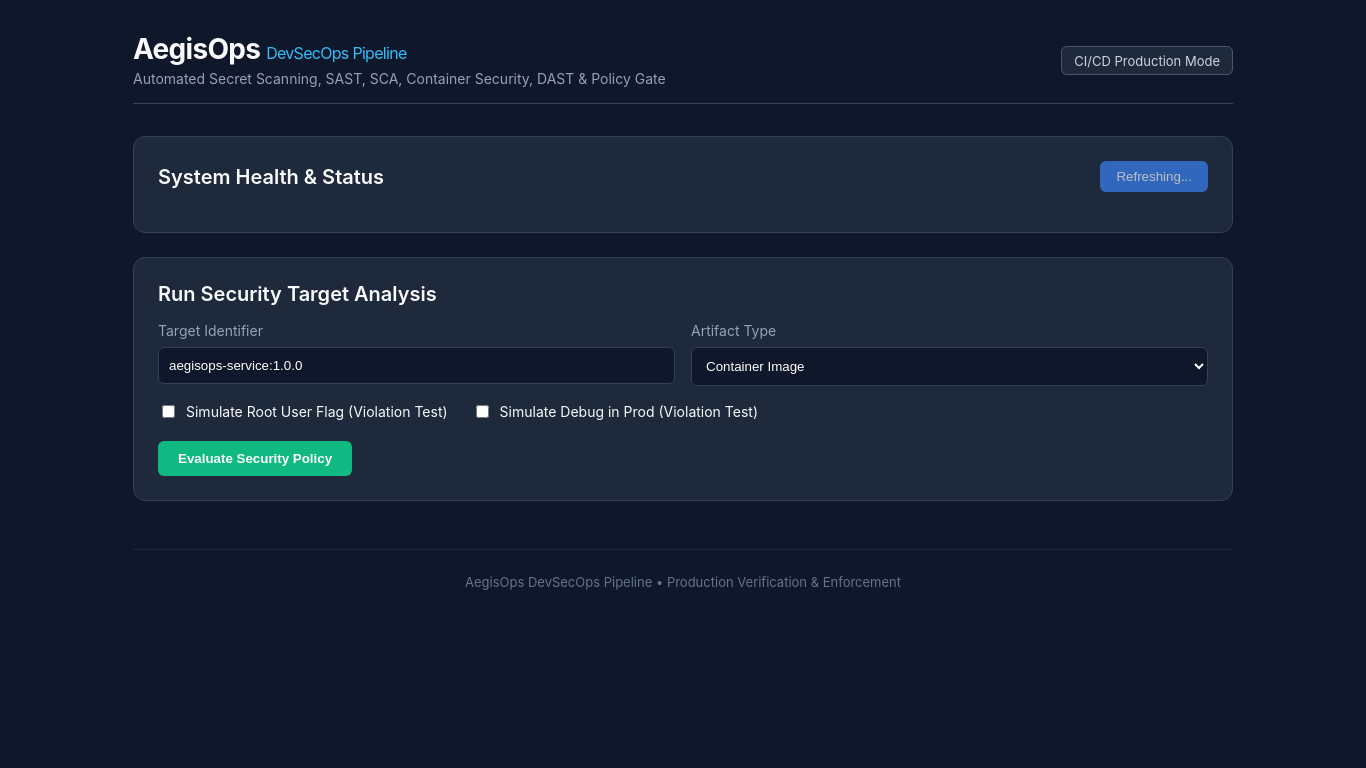
Test: AegisOps Frontend Application › handles client-side form validation for path traversal
Replace the text in the field with placeholder "e.g. app-container:1.0.0" with "../../malicious". click: (416, 366)
box: [158, 347, 675, 384]
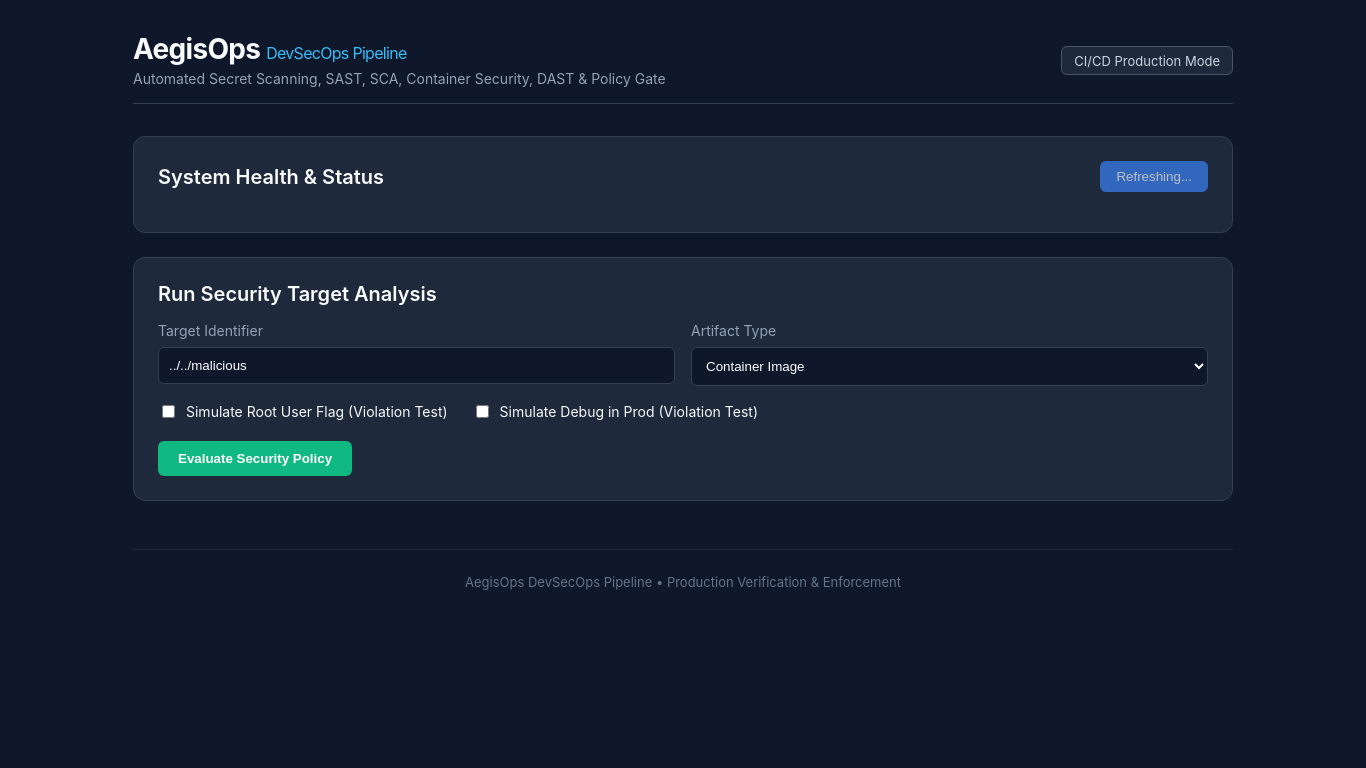
Click the button "Evaluate Security Policy". click: (255, 458)
box: [158, 441, 352, 476]
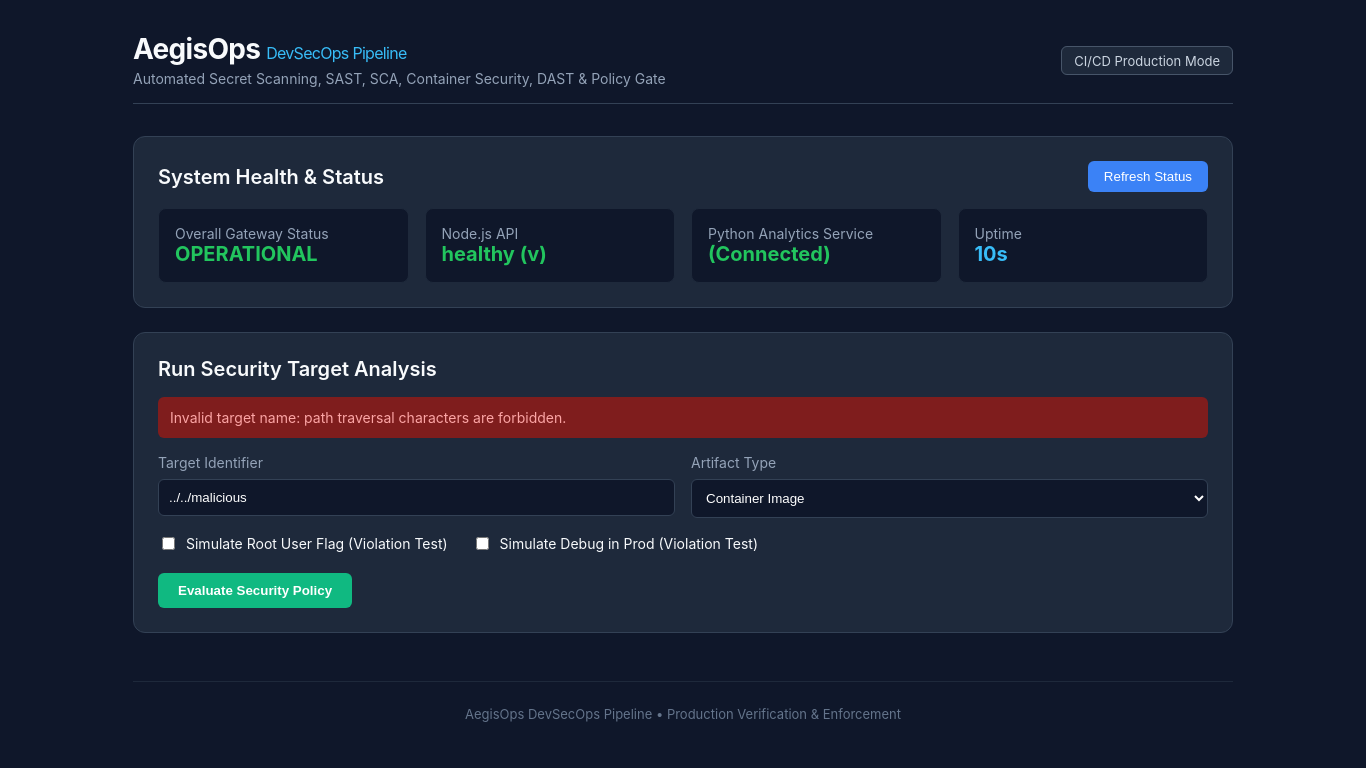
Expected: the text "path traversal characters are forbidden" is shown, [170, 409, 566, 426]
